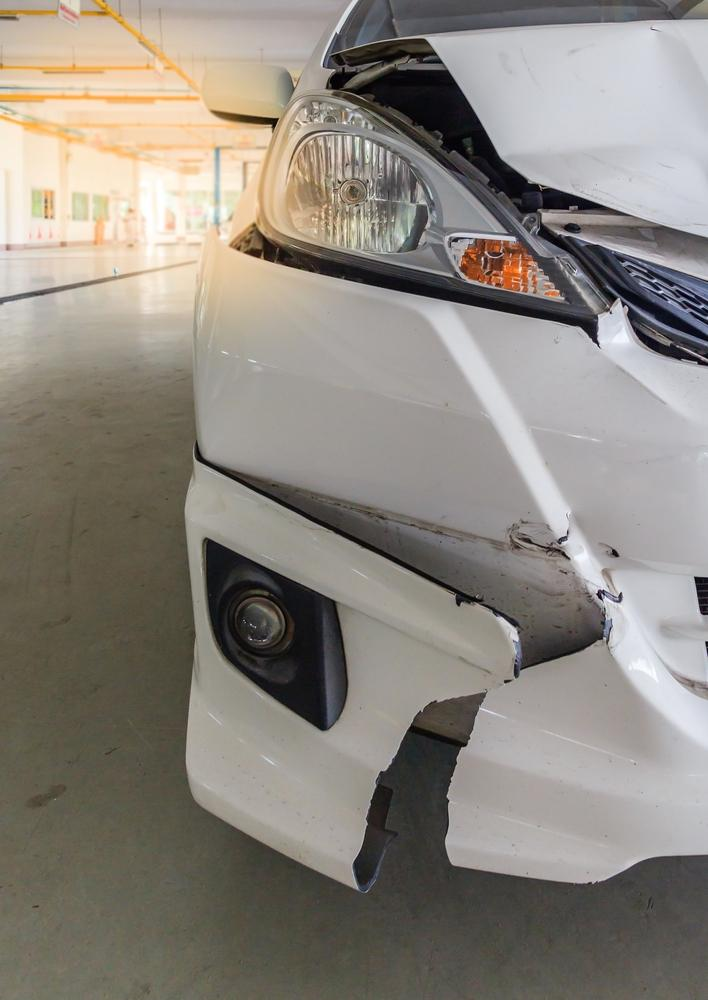crack: (351, 631, 605, 889), (578, 314, 602, 349)
dent: (481, 35, 708, 229)
scratch: (298, 489, 637, 612)
